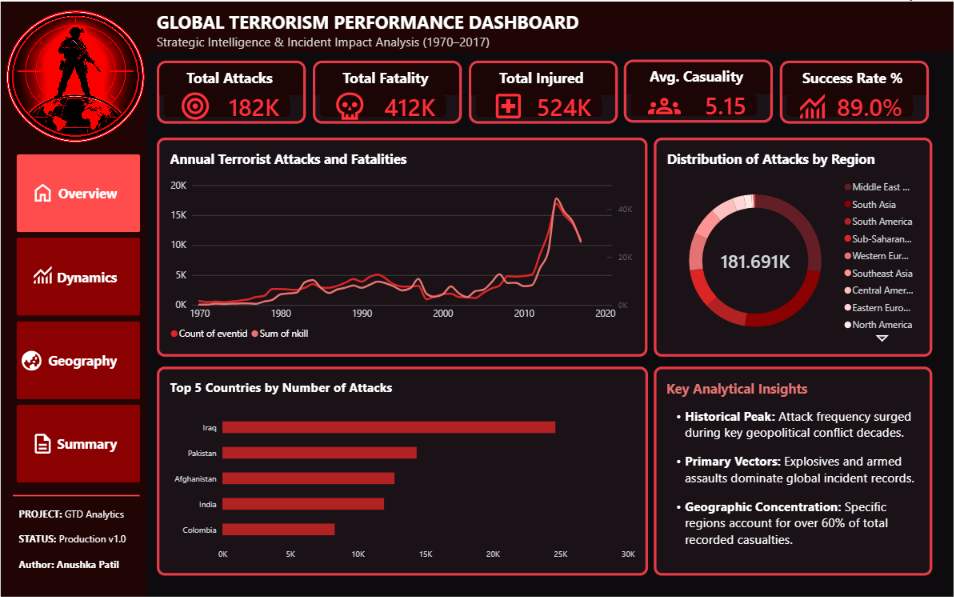

This screenshot's page, from the dashboard's own definition file:
{"tool":"powerbi","page":{"name":"Overview","canvas":[1440,900],"ordinal":0},"visuals":[{"type":"lineChart","title":"Annual Terrorist Attacks and Fatalities","fields":{"Category":["globalterrorismdb_0718dist.iyear"],"Y":["CountNonNull(globalterrorismdb_0718dist.eventid)"],"Y2":["Sum(globalterrorismdb_0718dist.nkill)"]},"box":[235,205,740,330],"z":0},{"type":"donutChart","title":"Distribution of Attacks by Region","fields":{"Category":["globalterrorismdb_0718dist.region_txt"],"Y":["CountNonNull(globalterrorismdb_0718dist.eventid)"]},"box":[985,205,420,330],"z":1000},{"type":"clusteredBarChart","title":"Top 5 Countries by Number of Attacks","fields":{"Category":["globalterrorismdb_0718dist.country_txt"],"Y":["CountNonNull(globalterrorismdb_0718dist.eventid)"]},"box":[235.3,550,740.5,315],"z":2000},{"type":"textbox","title":"Key Analytical Insights","box":[985,550,420,315],"z":3000},{"type":"shape","box":[0,0,220,900],"z":4000},{"type":"image","box":[6,6,214,221.7],"z":5000},{"type":"textbox","box":[26.7,761.7,178.3,103.3],"z":6000},{"type":"shape","box":[220,0,1220,75.4],"z":7000},{"type":"textbox","box":[235.3,12.1,1174.8,63.3],"z":8000},{"type":"cardVisual","title":"Total Attacks","fields":{"Data":["_Measures.Total Attacks"]},"box":[235.3,89.5,225,95],"z":9000,"group":"g1"},{"type":"cardVisual","title":"Total Fatality","fields":{"Data":["_Measures.Total Fatalities"]},"box":[470.3,89.5,225,95],"z":10000,"group":"g1"},{"type":"cardVisual","title":"Total Injured","fields":{"Data":["_Measures.Total Injured"]},"box":[705.3,89.5,225,95],"z":11000,"group":"g1"},{"type":"cardVisual","title":"Success Rate %","fields":{"Data":["_Measures.Success Rate %"]},"box":[1175.3,89.5,225,95],"z":12000,"group":"g1"},{"type":"cardVisual","title":"Avg. Casuality","fields":{"Data":["_Measures.Avg Casualties per Attack"]},"box":[940.3,87.5,225,95],"z":13000,"group":"g1"},{"type":"pageNavigator","box":[21.1,227,191.5,500.7],"z":14000},{"type":"image","box":[255.2,132.2,76.9,49.8],"z":19000,"group":"g1"},{"type":"image","box":[487.4,132.2,78.4,49.8],"z":20000,"group":"g1"},{"type":"image","box":[731.7,132.2,67.9,49.8],"z":21000,"group":"g1"},{"type":"image","box":[960.9,132.2,79.9,49.8],"z":22000,"group":"g1"},{"type":"image","box":[1194.7,132.2,58.8,49.8],"z":23000,"group":"g1"},{"type":"group","id":"g1","title":"Group 1","box":[235.3,87.5,1164.2,98],"z":23001},{"type":"image","box":[45.2,265.4,36,45],"z":23002},{"type":"image","box":[45.2,389.1,36,45],"z":23003},{"type":"image","box":[28,519,36,45],"z":23004},{"type":"image","box":[45.7,643.6,36,45],"z":23005},{"type":"shape","box":[18.1,728.4,191.5,33.2],"z":23006}]}

Visuals, with their boxes in screenshot pixels (x1, y1, x2, y2), scaled from the page's 1440x900 canvas onto the 954x597 screenshot:
"Annual Terrorist Attacks and Fatalities" lineChart: box(156, 136, 646, 355)
"Distribution of Attacks by Region" donutChart: box(653, 136, 931, 355)
"Top 5 Countries by Number of Attacks" clusteredBarChart: box(156, 365, 646, 574)
"Key Analytical Insights" textbox: box(653, 365, 931, 574)
shape: box(0, 0, 146, 596)
image: box(4, 4, 146, 151)
textbox: box(18, 505, 136, 574)
shape: box(146, 0, 953, 50)
textbox: box(156, 8, 934, 50)
"Total Attacks" cardVisual: box(156, 59, 305, 122)
"Total Fatality" cardVisual: box(312, 59, 461, 122)
"Total Injured" cardVisual: box(467, 59, 616, 122)
"Success Rate %" cardVisual: box(779, 59, 928, 122)
"Avg. Casuality" cardVisual: box(623, 58, 772, 121)
pageNavigator: box(14, 151, 141, 483)
image: box(169, 88, 220, 121)
image: box(323, 88, 375, 121)
image: box(485, 88, 530, 121)
image: box(637, 88, 690, 121)
image: box(791, 88, 830, 121)
"Group 1" group: box(156, 58, 927, 123)
image: box(30, 176, 54, 206)
image: box(30, 258, 54, 288)
image: box(19, 344, 42, 374)
image: box(30, 427, 54, 457)
shape: box(12, 483, 139, 505)
